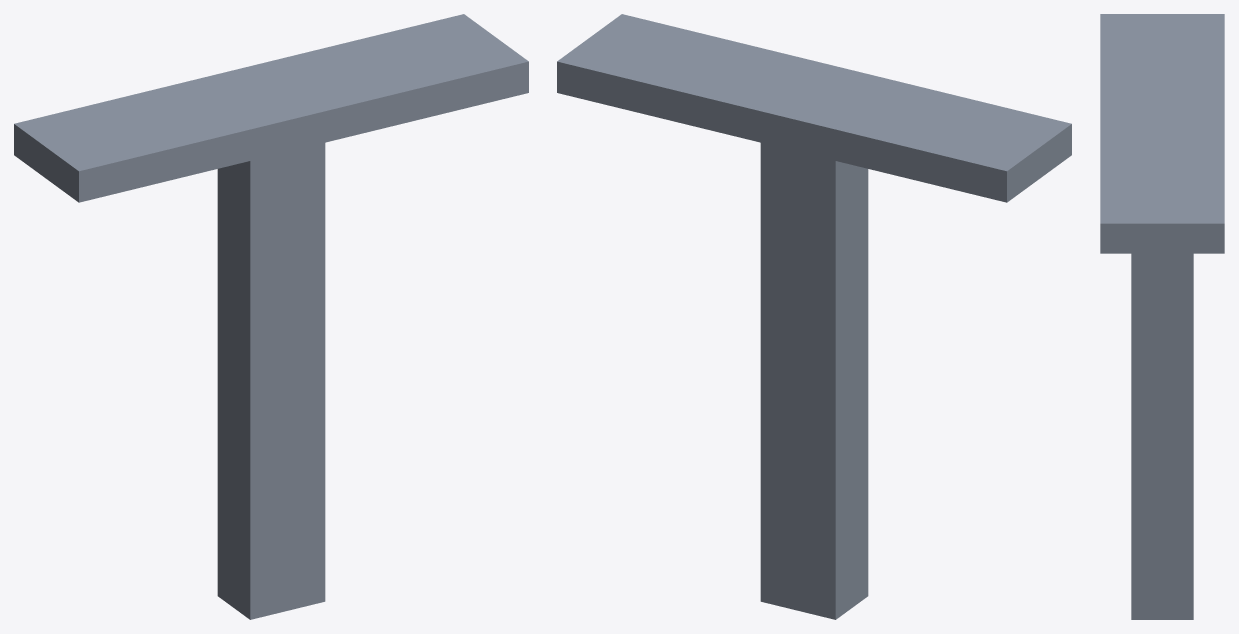
The model's file is marina-bay.glb.
The picture shows the model from 3 angles, left to right: view 1: azimuth 30°, elevation 25°; view 2: azimuth 150°, elevation 25°; view 3: azimuth 270°, elevation 25°; orthographic projection. The views are drawn at different scales.
Visible parts, largest first — view 1: marina-bay; view 2: marina-bay; view 3: marina-bay.
Boxes of the visible parts, x1,y1,x2,y2 form: marina-bay: [14, 14, 528, 619]; marina-bay: [557, 14, 1071, 619]; marina-bay: [1100, 14, 1224, 619].
Bounding box in the file's own units: 1.2 × 1.29 × 0.3.
